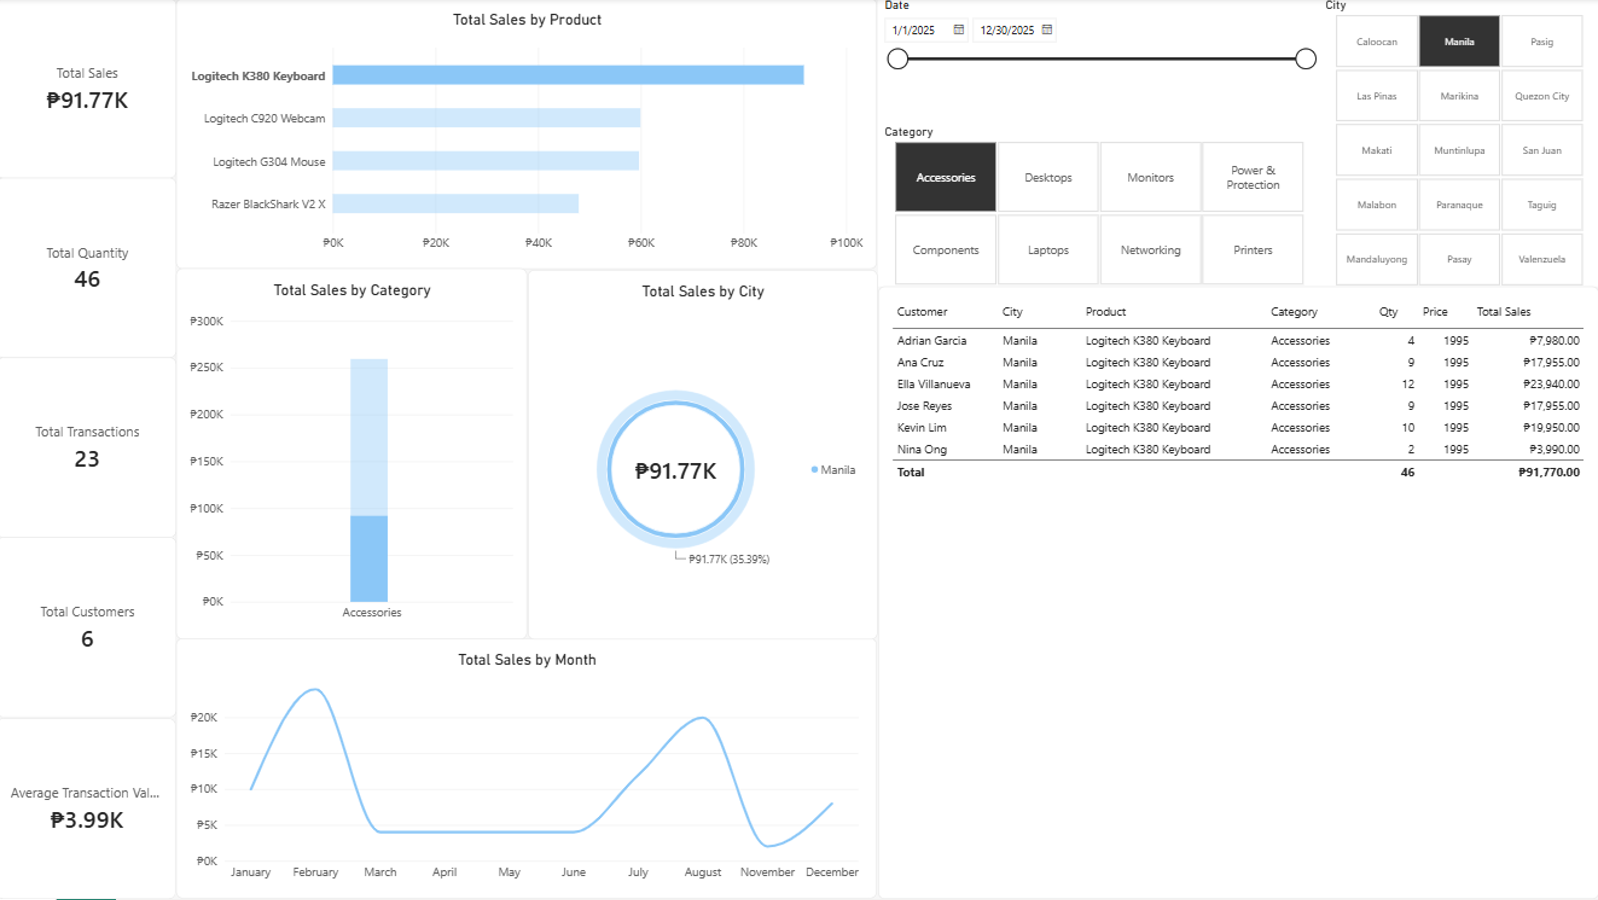

This screenshot's page, from the dashboard's own definition file:
{"tool":"powerbi","page":{"name":"Report","canvas":[1920,1080],"ordinal":0},"visuals":[{"type":"cardVisual","fields":{"Data":["Sales.Total Sales"]},"box":[0,0,216,216],"z":0},{"type":"cardVisual","fields":{"Data":["Sales.Total Quantity"]},"box":[0,215.6,216,216],"z":1},{"type":"cardVisual","fields":{"Data":["Sales.Total Transactions"]},"box":[0,431.3,216,216],"z":2},{"type":"cardVisual","fields":{"Data":["Sales.Total Customers"]},"box":[0,646.9,216,216],"z":3},{"type":"cardVisual","fields":{"Data":["Sales.Average Transaction Value"]},"box":[0,862.5,215.6,217.1],"z":4},{"type":"slicer","fields":{"Values":["Customers.City"]},"box":[1584.7,0,335.3,345.6],"z":5},{"type":"slicer","fields":{"Values":["Sales.Date"]},"box":[1056,0,528.7,152.1],"z":6},{"type":"slicer","fields":{"Values":["Products.Category"]},"box":[1056,152.1,528.7,193.5],"z":7},{"type":"tableEx","fields":{"Values":["Customers.Customer","Customers.City","Products.Product","Products.Category","Sum(Sales.Quantity)","Products.Price","Sales.Total Sales"]},"box":[1056,345.6,864,734],"z":8},{"type":"clusteredBarChart","title":"Total Sales by Product","fields":{"Category":["Products.Product"],"Y":["Sales.Total Sales"]},"box":[215.6,0,840.4,324.9],"z":9},{"type":"lineChart","title":"Total Sales by Month","fields":{"Category":["Sales.Date.Variation.Date Hierarchy.Quarter","Sales.Date.Variation.Date Hierarchy.Month","Sales.Date.Variation.Date Hierarchy.Day"],"Y":["Sales.Total Sales"]},"box":[215.6,768,840.4,311.6],"z":10},{"type":"clusteredColumnChart","title":"Total Sales by Category","fields":{"Category":["Products.Category"],"Y":["Sales.Total Sales"]},"box":[215.6,323.4,420.9,444.6],"z":11},{"type":"donutChart","title":"Total Sales by City","fields":{"Category":["Customers.City"],"Y":["Sales.Total Sales"]},"box":[637,325,419,443],"z":12}]}

Visuals, with their boxes in screenshot pixels (x1, y1, x2, y2), scaled from the page's 1920x1080 canvas onto the 1598x900 screenshot:
cardVisual - Sales.Total Sales: [left=0, top=0, right=180, bottom=180]
cardVisual - Sales.Total Quantity: [left=0, top=180, right=180, bottom=360]
cardVisual - Sales.Total Transactions: [left=0, top=359, right=180, bottom=539]
cardVisual - Sales.Total Customers: [left=0, top=539, right=180, bottom=719]
cardVisual - Sales.Average Transaction Value: [left=0, top=719, right=179, bottom=899]
slicer - Customers.City: [left=1319, top=0, right=1597, bottom=288]
slicer - Sales.Date: [left=879, top=0, right=1319, bottom=127]
slicer - Products.Category: [left=879, top=127, right=1319, bottom=288]
tableEx - Customers.Customer x Customers.City: [left=879, top=288, right=1597, bottom=899]
"Total Sales by Product" clusteredBarChart: [left=179, top=0, right=879, bottom=271]
"Total Sales by Month" lineChart: [left=179, top=640, right=879, bottom=899]
"Total Sales by Category" clusteredColumnChart: [left=179, top=270, right=530, bottom=640]
"Total Sales by City" donutChart: [left=530, top=271, right=879, bottom=640]
